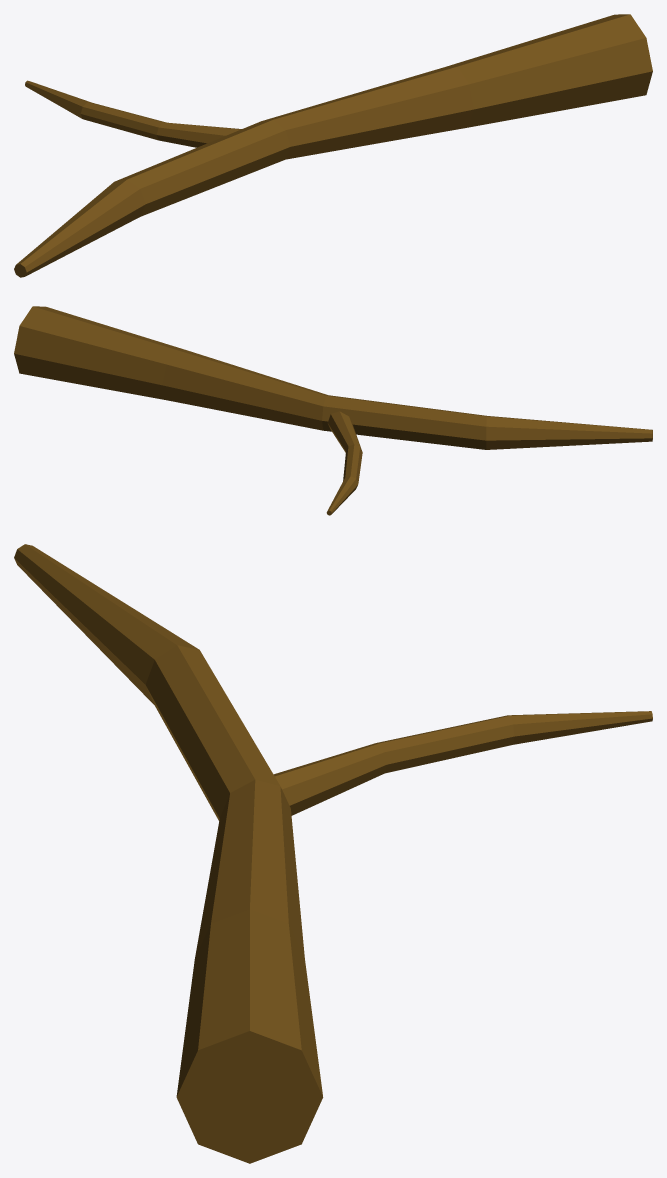
Rendered from Ast_03_rdy.fbx.
3 views of the same model, one above another, from view 1: azimuth 30°, elevation 25°; view 2: azimuth 150°, elevation 25°; view 3: azimuth 270°, elevation 25° (orthographic). The views are drawn at different scales.
Visible parts, largest first — view 1: Ast_03; view 2: Ast_03; view 3: Ast_03.
Boxes of the visible parts, box(x1,y1,x2,y2) form: Ast_03: box(14, 14, 652, 277); Ast_03: box(14, 306, 652, 515); Ast_03: box(14, 544, 652, 1163).
Bounding box in the file's own units: 1017 × 116 × 504.
